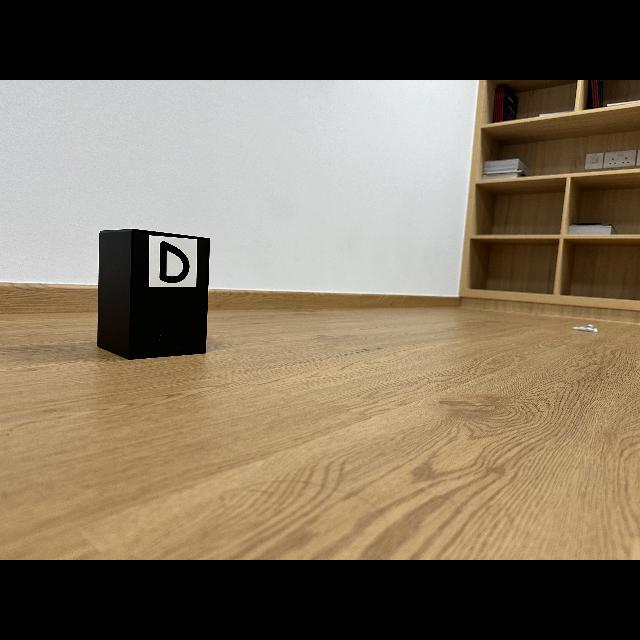D: (159, 241, 190, 284)
